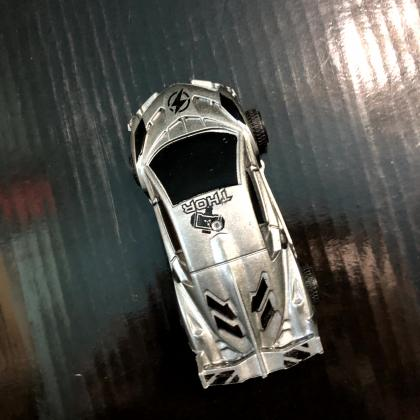Car: (128, 80, 324, 391)
